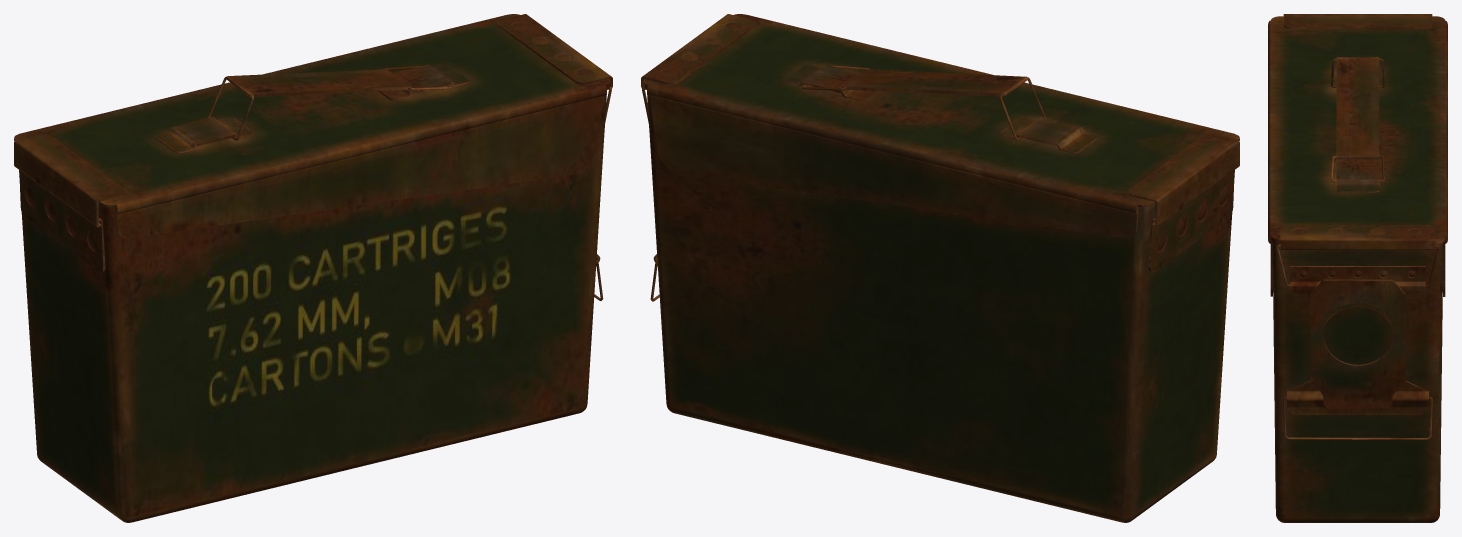
Rendered from ammo_762.glb.
3 views of the same model, side by side, from view 1: azimuth 30°, elevation 25°; view 2: azimuth 150°, elevation 25°; view 3: azimuth 270°, elevation 25° (orthographic). The views are drawn at different scales.
Visible parts, largest first — view 1: body; view 2: body; view 3: body.
Boxes of the visible parts, x1,y1,x2,y2 form: body: (14, 14, 612, 522); body: (641, 14, 1239, 522); body: (1268, 14, 1447, 522).
Bounding box in the file's own units: 0.2579 × 0.1775 × 0.0866.
1 material, 1 textured.
